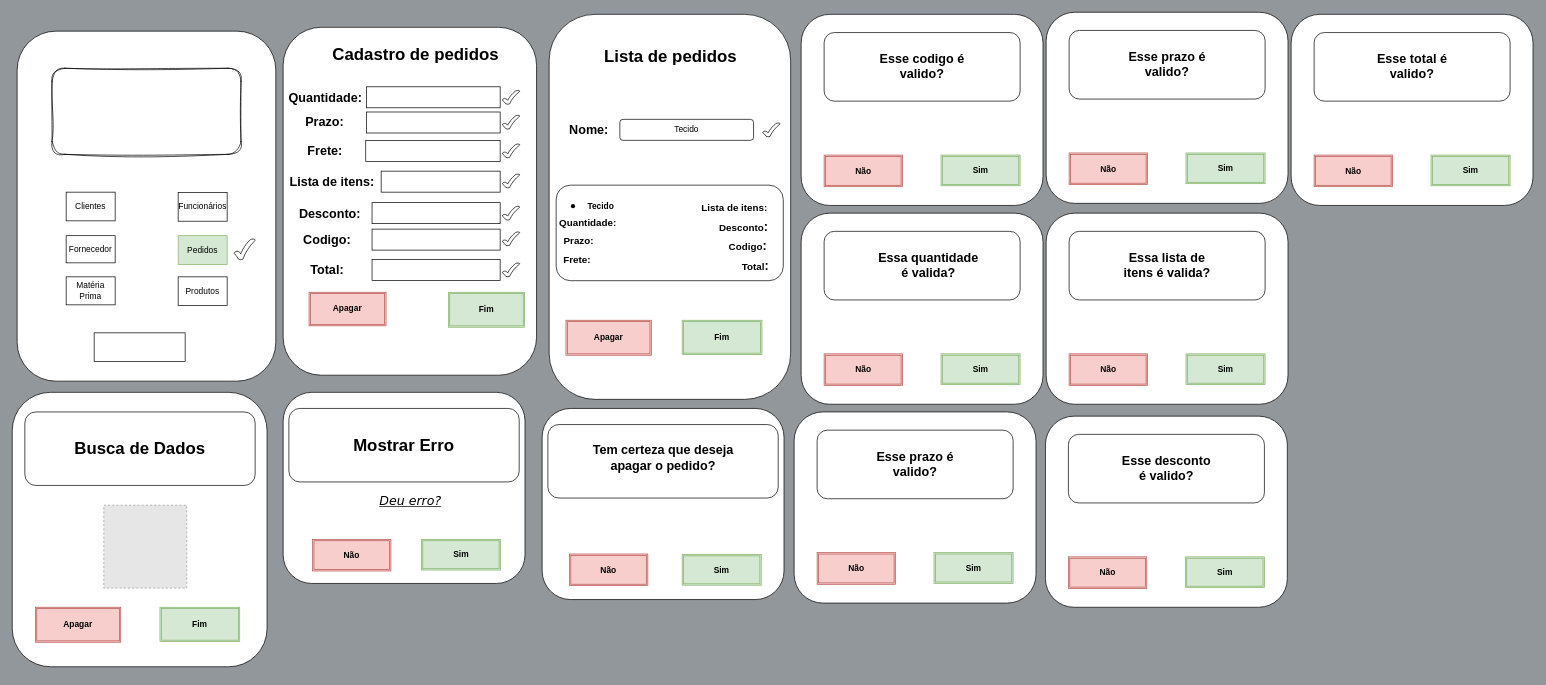
The diagram is 1546 pixels wide and 685 high, and some of its shapes have lost their labels. Grey dashed boxes stand in for pictures. Each missing label, with the centre of its shape:
"Transportadora" belongs at point 139,347.
"Usuários" belongs at point 146,111.
